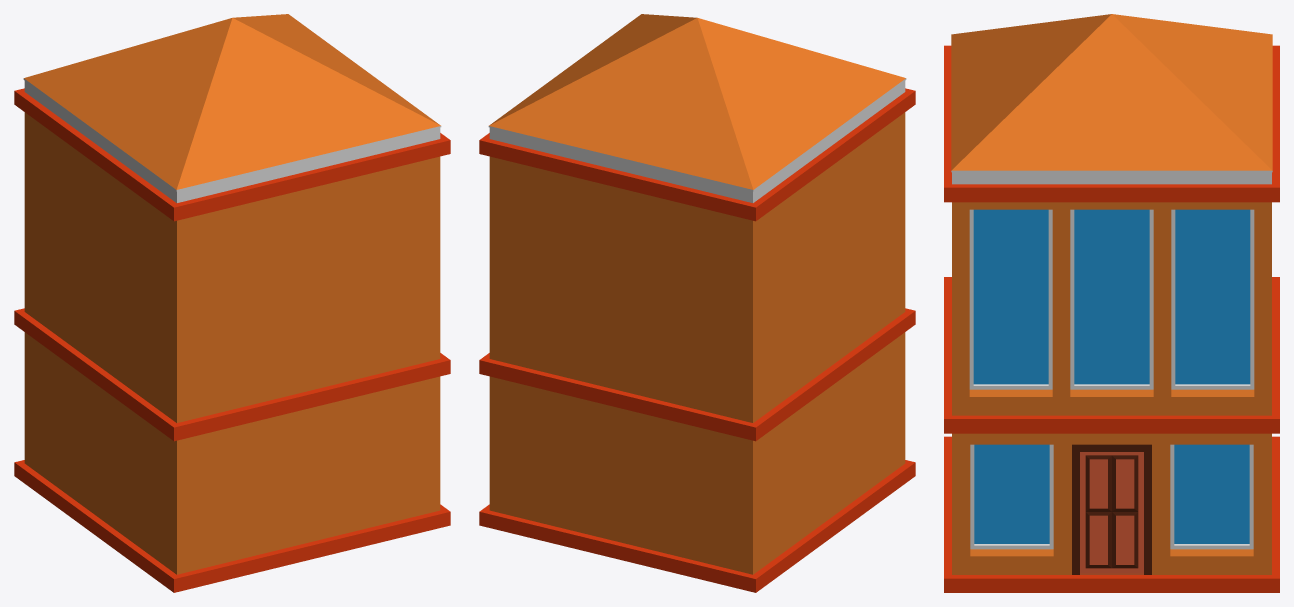
File: Buildingv2.fbx
The picture shows the model from 3 angles, left to right: view 1: azimuth 30°, elevation 25°; view 2: azimuth 150°, elevation 25°; view 3: azimuth 270°, elevation 25°; orthographic projection. The views are drawn at different scales.
Visible parts, largest first — view 1: Walls1, Roof, corners, corners 2, building_001; view 2: Walls1, Roof, corners, corners 2, building_001; view 3: Roof, Windows, windows walls, building_001.001, corners, Windows 2, building_001, corners 2, Door2, Door3.
Part boxes in pixels (x1,y1,x2,y2): Walls1: [24, 112, 440, 574]; Roof: [24, 14, 440, 189]; corners: [14, 91, 450, 592]; corners 2: [14, 88, 450, 578]; building_001: [23, 78, 441, 202]; Walls1: [489, 112, 905, 574]; Roof: [489, 14, 905, 189]; corners: [479, 91, 915, 592]; corners 2: [479, 88, 915, 578]; building_001: [488, 78, 906, 202]; Roof: [951, 14, 1272, 170]; Windows: [973, 209, 1250, 384]; windows walls: [952, 202, 1271, 415]; building_001.001: [952, 433, 1271, 574]; corners: [944, 187, 1279, 592]; Windows 2: [974, 444, 1249, 543]; building_001: [951, 170, 1272, 549]; corners 2: [944, 45, 1279, 578]; Door2: [1080, 452, 1143, 573]; Door3: [1072, 444, 1151, 574].
Bounding box in the file's own units: 420 × 701 × 420.
